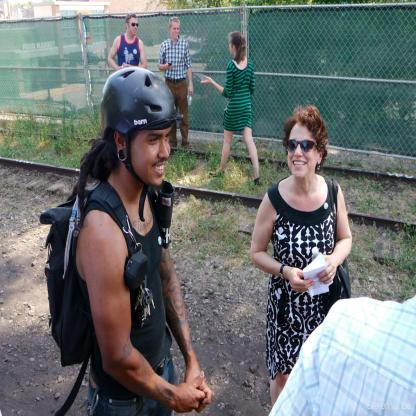Helmet: (96, 61, 184, 190)
